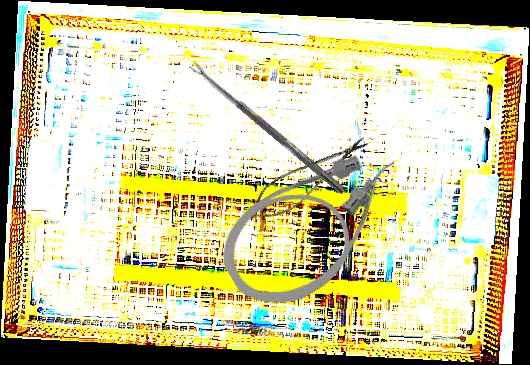Cannula: (204, 131, 431, 325)
Micro Scissor: (236, 124, 377, 234)
Surgical Spoon: (189, 60, 347, 195)
